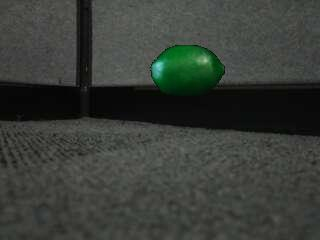Lime: (149, 42, 227, 99)
